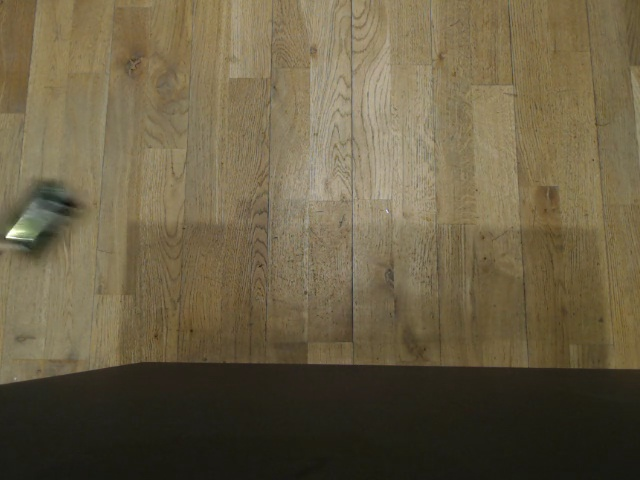beer: (0, 175, 82, 260)
